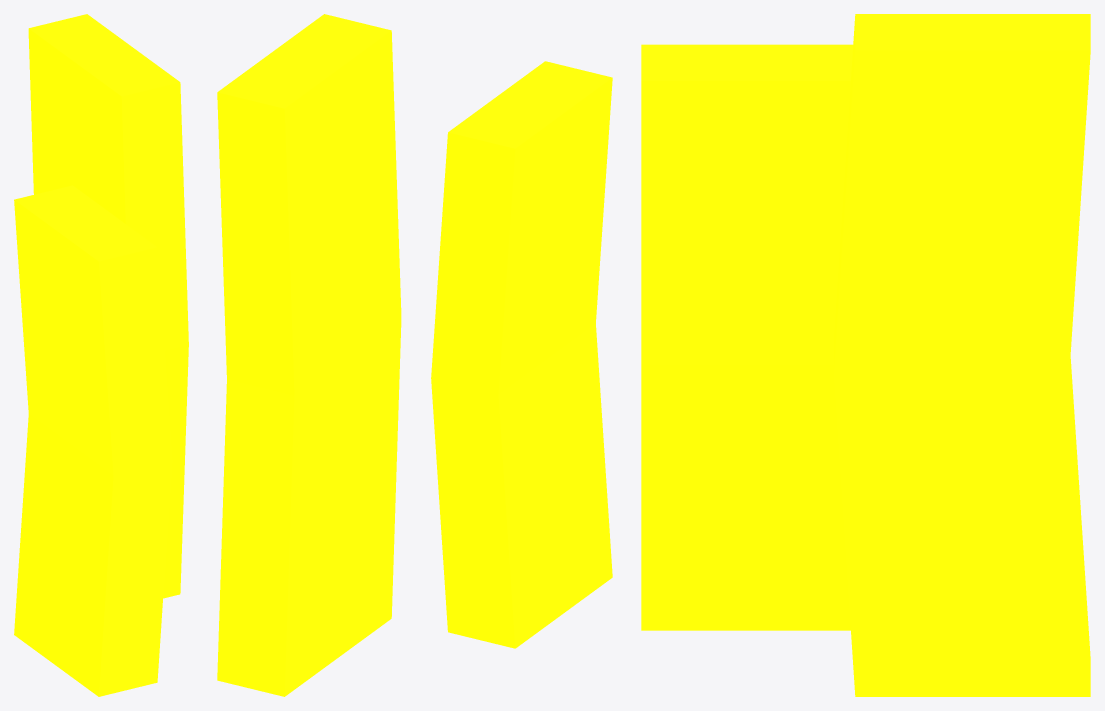
Rendered from AmericanCopperBuildingConceptModel.gltf.
3 views of the same model, side by side, from view 1: azimuth 30°, elevation 25°; view 2: azimuth 150°, elevation 25°; view 3: azimuth 270°, elevation 25° (orthographic). The views are drawn at different scales.
Visible parts, largest first — view 1: object_2, object_1; view 2: object_1, object_2; view 3: object_1, object_2.
Part boxes in pixels (x1,y1,x2,y2): object_2: (14, 185, 172, 696); object_1: (28, 14, 188, 598); object_1: (217, 14, 401, 696); object_2: (431, 61, 612, 648); object_1: (834, 14, 1090, 696); object_2: (641, 44, 853, 630).
Bounding box in the file's own units: 2040 × 6000 × 3780.
